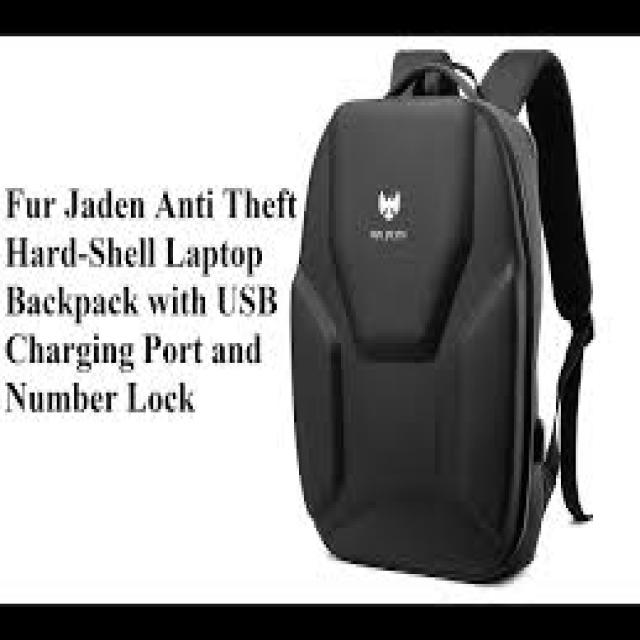backpack: (290, 47, 594, 585)
